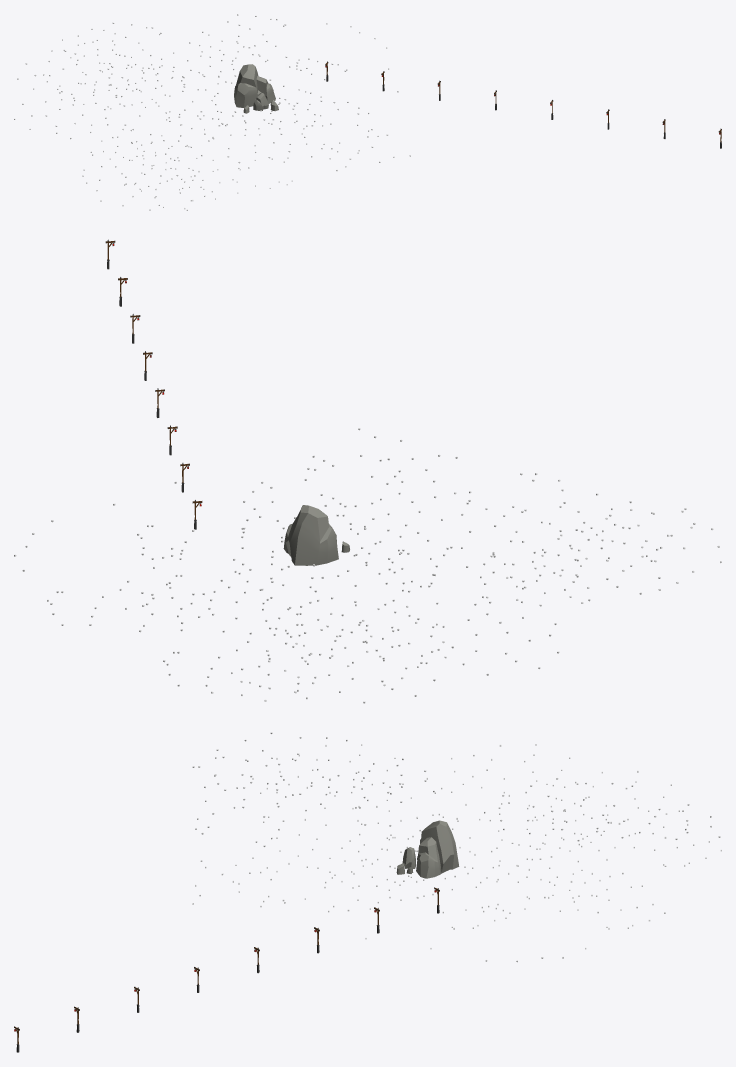
The model's file is chunk_0_2.glb.
3 views of the same model, one above another, from view 1: azimuth 30°, elevation 25°; view 2: azimuth 150°, elevation 25°; view 3: azimuth 270°, elevation 25° (orthographic). The views are drawn at different scales.
Parts seen in each view (by area): view 1: Resource_Rock_1, lamp_base.023; view 2: Resource_Rock_1, lamp_base.023; view 3: Resource_Rock_1, lamp_base.023.
Boxes of the visible parts, left/top/right/bottom form: Resource_Rock_1: left=234, top=64, right=278, bottom=113; lamp_base.023: left=325, top=61, right=721, bottom=148; Resource_Rock_1: left=283, top=505, right=349, bottom=565; lamp_base.023: left=105, top=239, right=202, bottom=529; Resource_Rock_1: left=396, top=820, right=459, bottom=878; lamp_base.023: left=14, top=887, right=439, bottom=1052.
Bounding box in the file's own units: 110 × 7.36 × 103.
